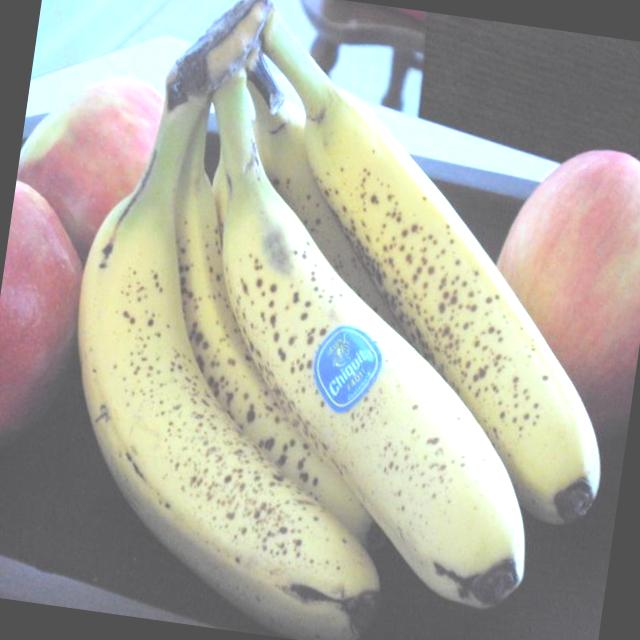Apple: (477, 133, 640, 420), (9, 61, 172, 268), (0, 179, 94, 455)
Banana: (32, 0, 640, 640)
